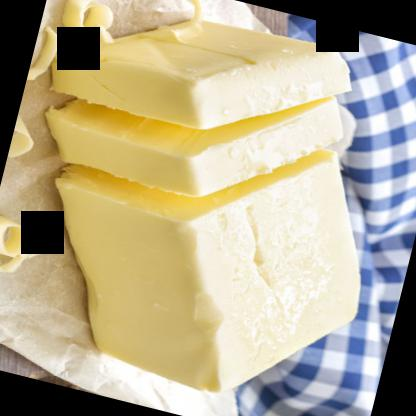butter: (27, 91, 392, 415), (48, 29, 356, 229), (50, 0, 364, 166)
